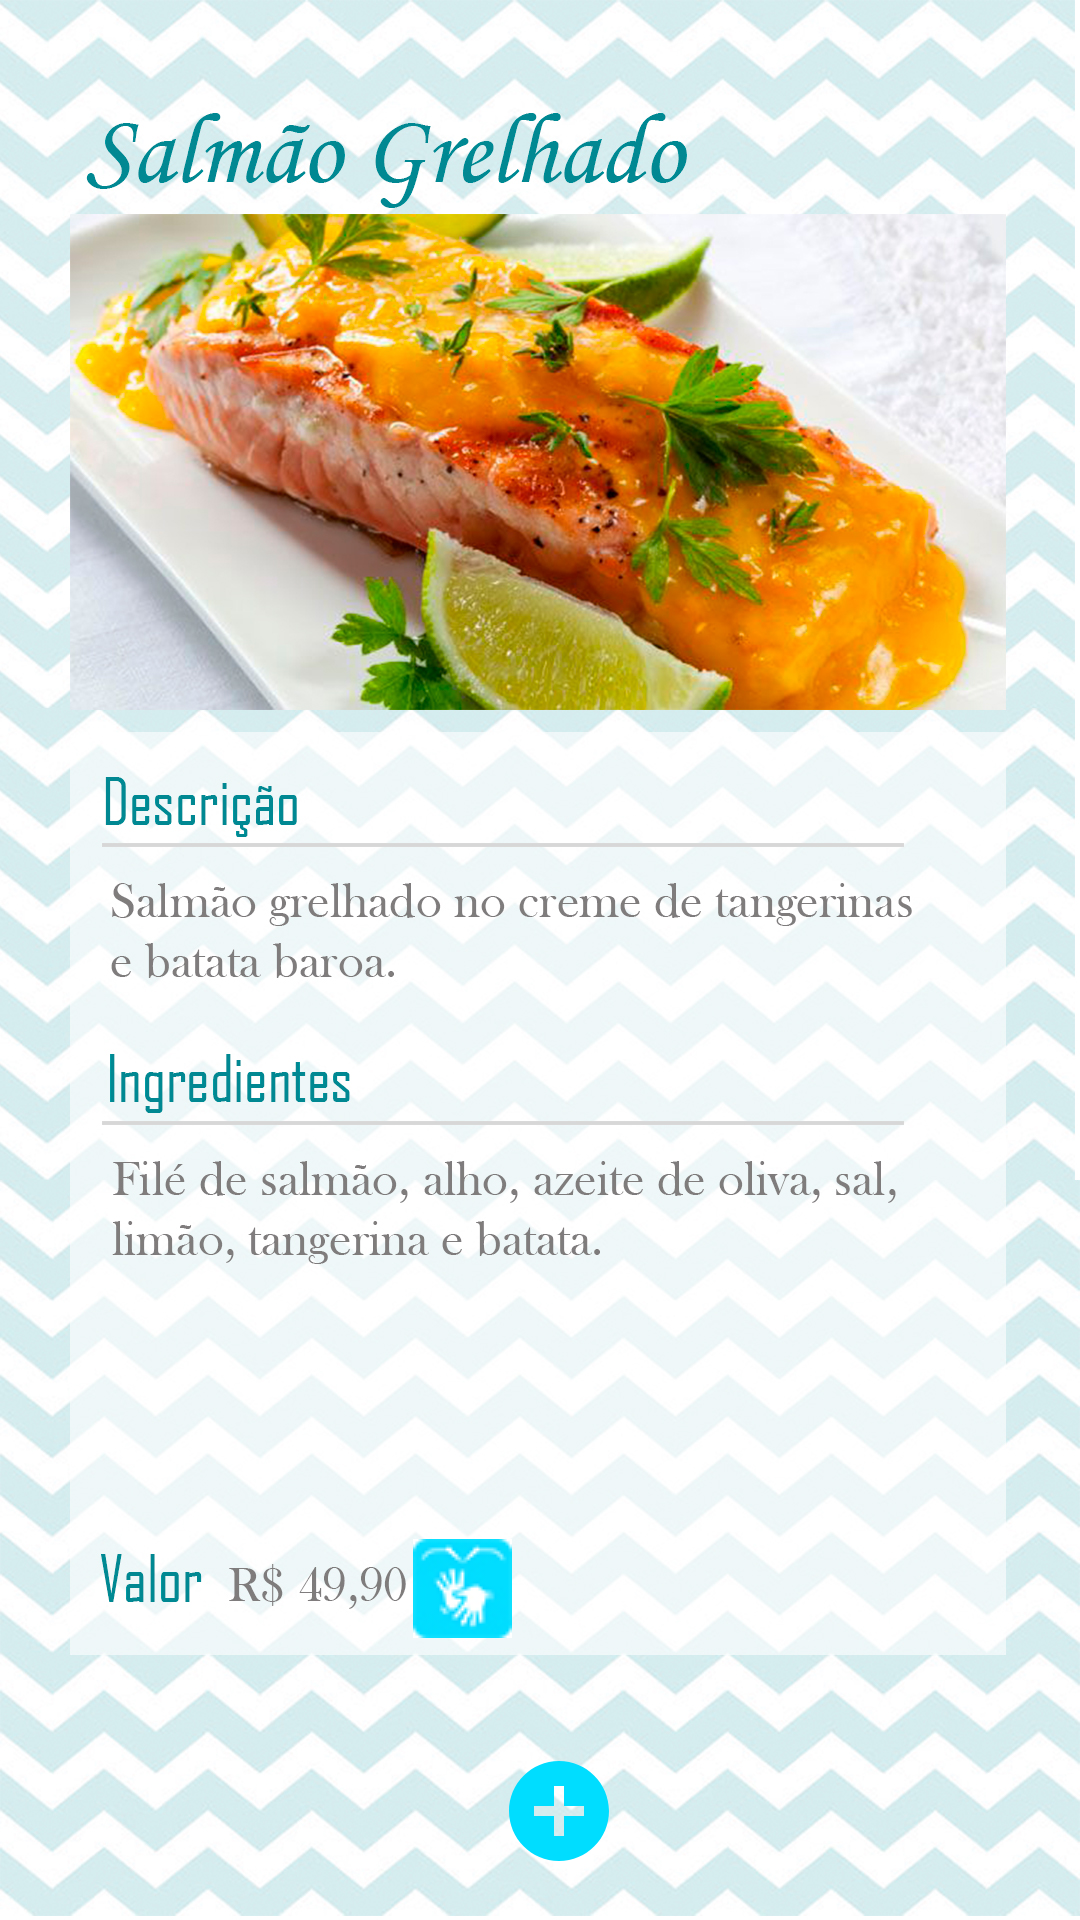

Icons on this 1080px×1920px Android screen, each with the point to tap as point (x, y):
add: point (558, 1811)
